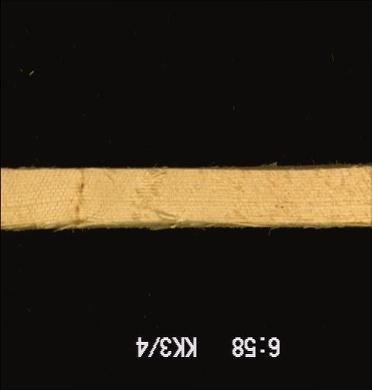small_knot: (56, 169, 93, 220)
